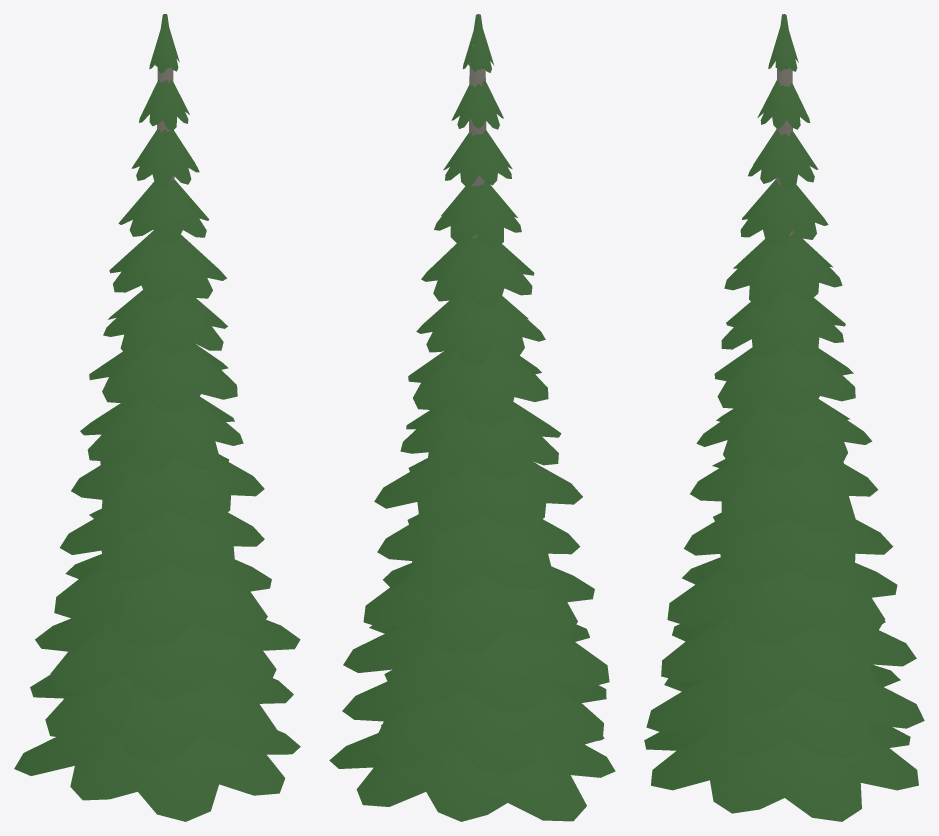
Rendered from Blender_BalsamFir_1.glb.
3 renders of one model, left to right at view 1: azimuth 30°, elevation 25°; view 2: azimuth 150°, elevation 25°; view 3: azimuth 270°, elevation 25°, orthographic.
Parts seen in each view (by area): view 1: Blender_BalsamFir_1; view 2: Blender_BalsamFir_1; view 3: Blender_BalsamFir_1.
Boxes of the visible parts, <box> form: Blender_BalsamFir_1: <box>14,14,300,821</box>; Blender_BalsamFir_1: <box>329,14,615,821</box>; Blender_BalsamFir_1: <box>644,14,924,821</box>.
Size of the model in its own units: 5.24 by 15.62 by 5.25.
